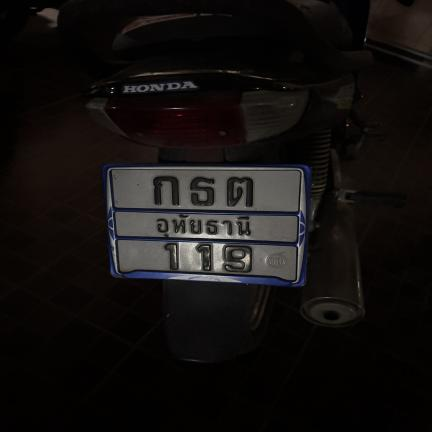1: (192, 243, 215, 274), (160, 241, 182, 271)
9: (219, 243, 254, 275)
A01: (149, 173, 182, 207)
A21: (222, 173, 256, 208)
A24: (187, 174, 216, 208)
UTI: (147, 211, 257, 241)
